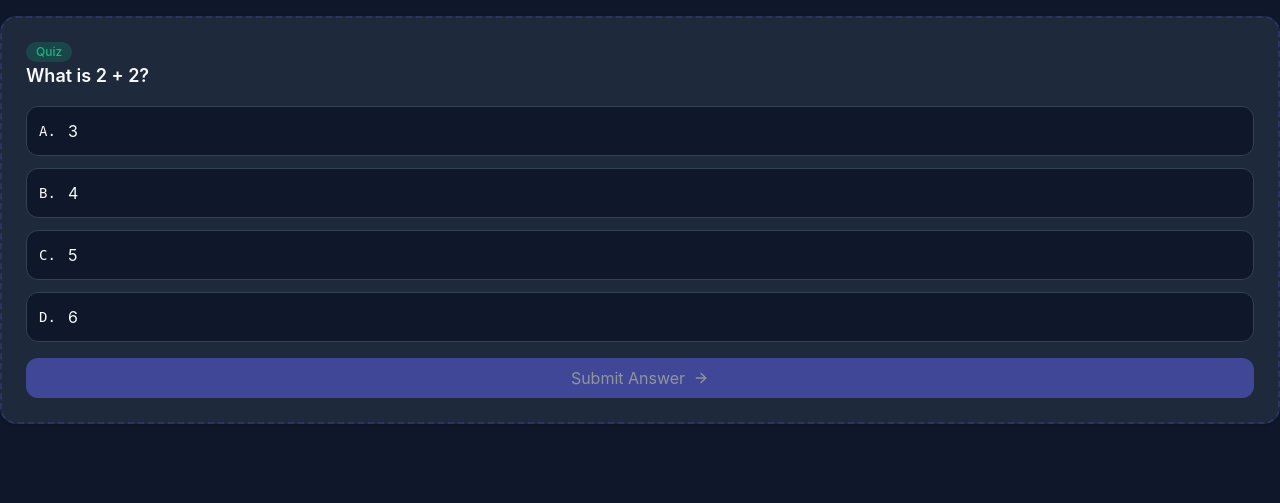
Test case: QuizWidget › shows incorrect feedback for wrong answer
Click the text "3" at x=73, y=131, box [68,119,78,143]
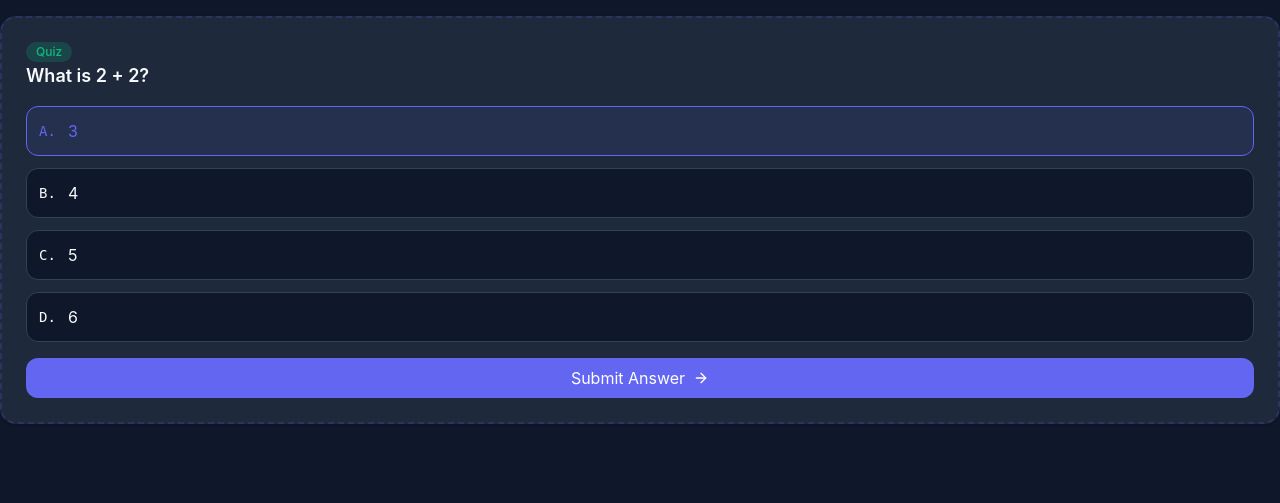
Click the button "Submit Answer" at x=640, y=378, box [26,358,1254,398]
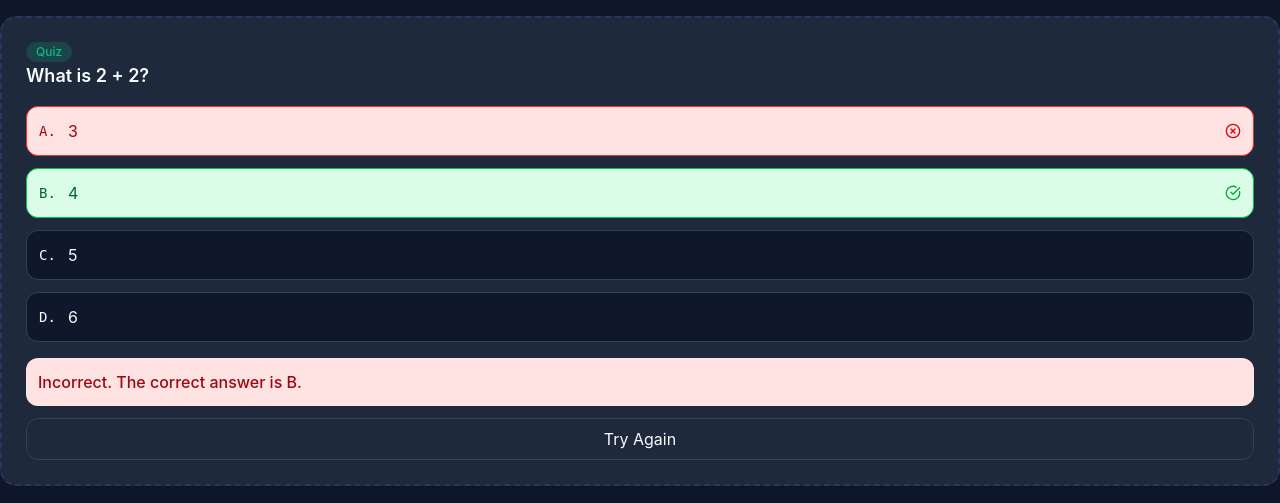
Check: the text "Incorrect. The correct answer is B." is shown, box [38,372,302,392]
